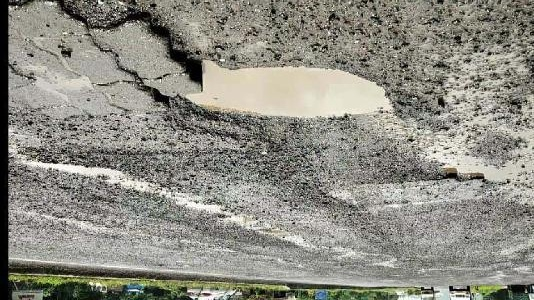pothole: (141, 55, 396, 126)
